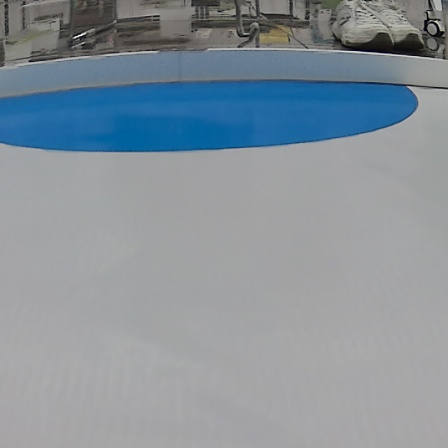blue_base: (2, 79, 418, 153)
